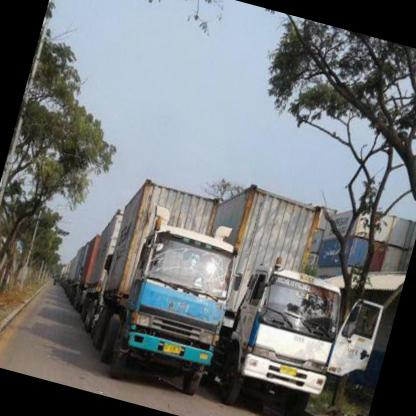truck: (103, 217, 246, 402), (212, 259, 351, 416)
